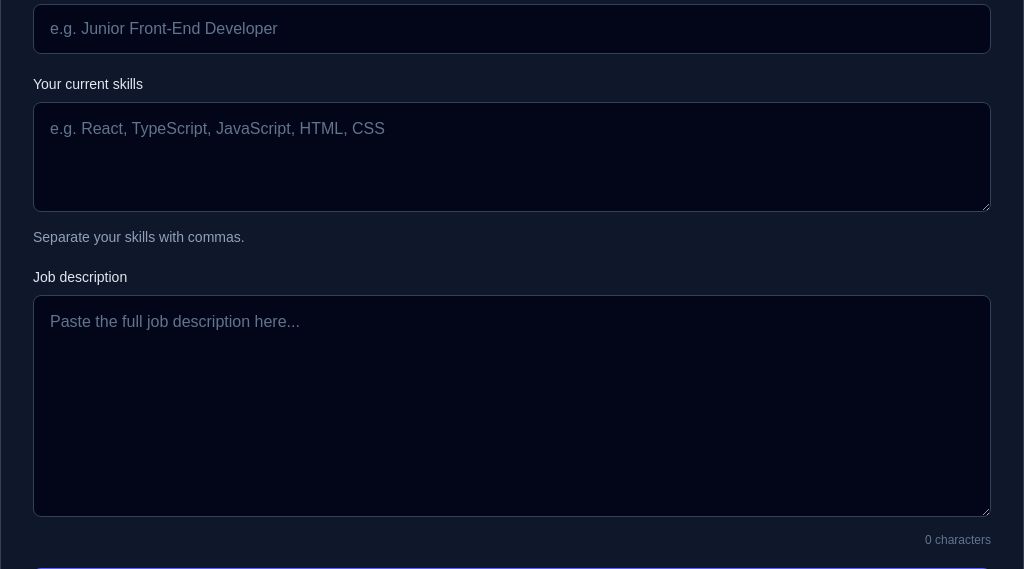
it: JobDescriptionAnalyzer › shows a message when no known skills are detected
Step 1. Type "Junior Developer" into the field labelled "Target job title" → x=512, y=29, box [33,4,991,54]
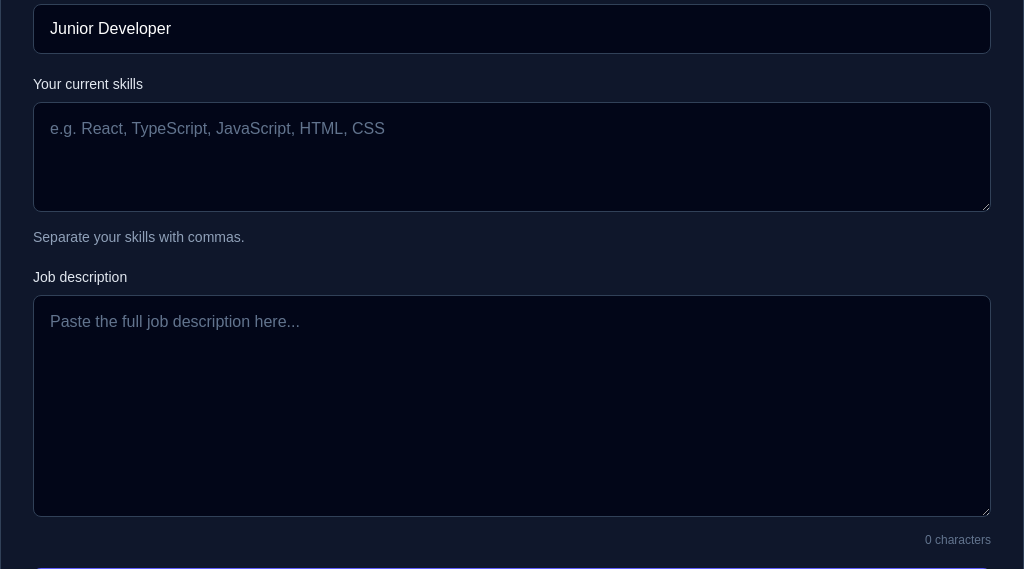
Step 2. Type "Strong communication, teamwork, problem solving, and organizational skills are required." into the text box labelled "Job description" → x=512, y=406, box [33,295,991,517]
(page scrolled)
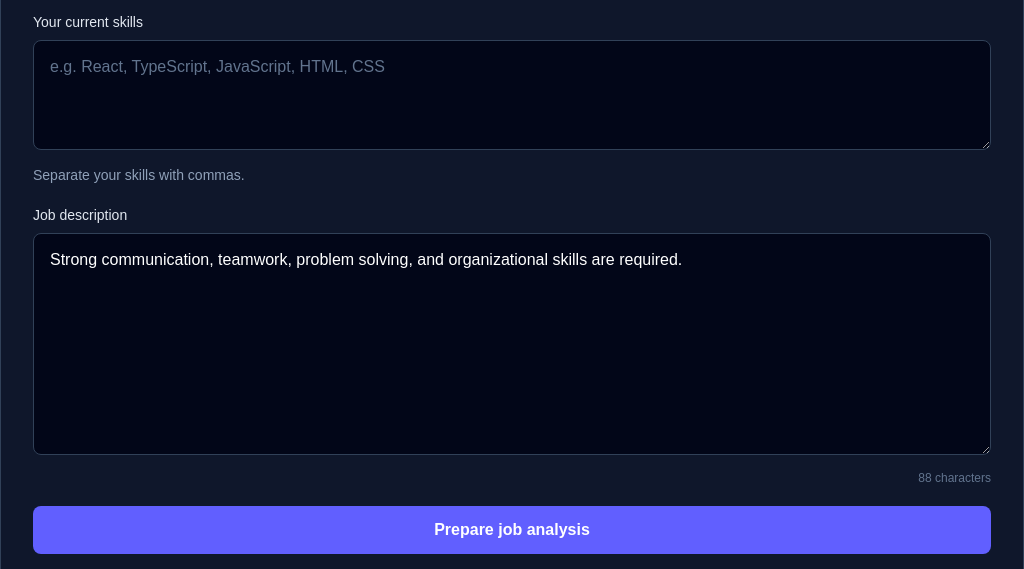
Step 3. Click the button "Prepare job analysis" → x=512, y=530, box [33,506,991,554]
(page scrolled)
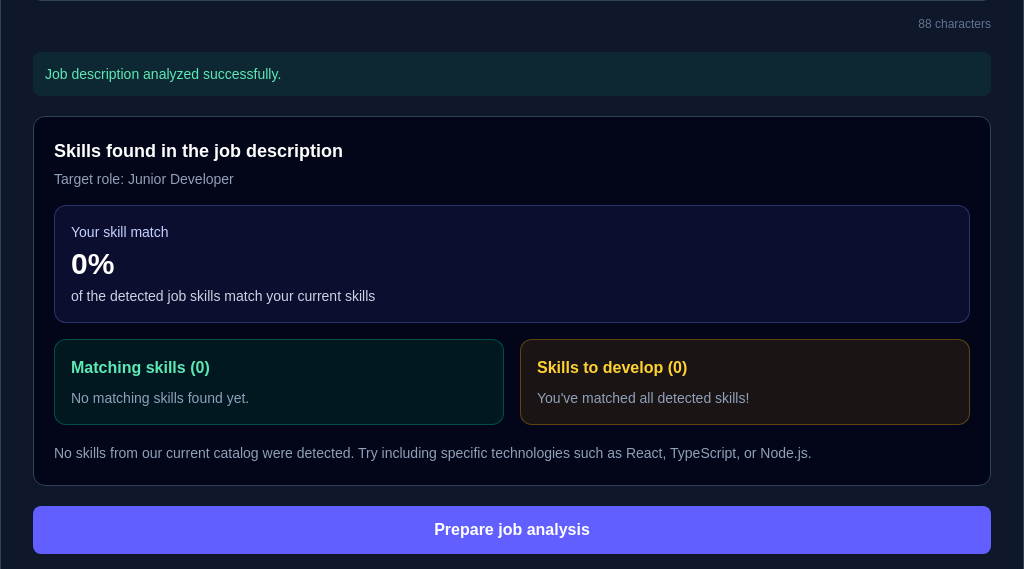
Now the text "No skills from our current catalog were detected" is shown, box [54,445,812,461]
